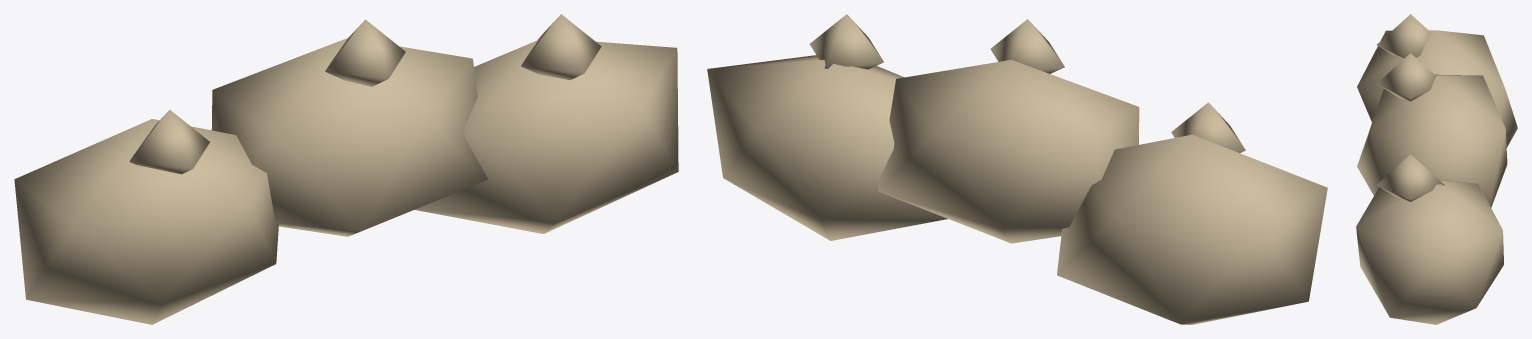
File: flower.glb
The picture shows the model from 3 angles, left to right: view 1: azimuth 30°, elevation 25°; view 2: azimuth 150°, elevation 25°; view 3: azimuth 270°, elevation 25°; orthographic projection. The views are drawn at different scales.
Visible parts, largest first — view 1: WB002V2_Foliage.001; view 2: WB002V2_Foliage.001; view 3: WB002V2_Foliage.001.
Part boxes in pixels (<box>): WB002V2_Foliage.001: <box>14,14,678,324</box>; WB002V2_Foliage.001: <box>707,14,1327,324</box>; WB002V2_Foliage.001: <box>1356,14,1517,324</box>.
Bounding box in the file's own units: 1.93 × 0.7797 × 0.5664.
